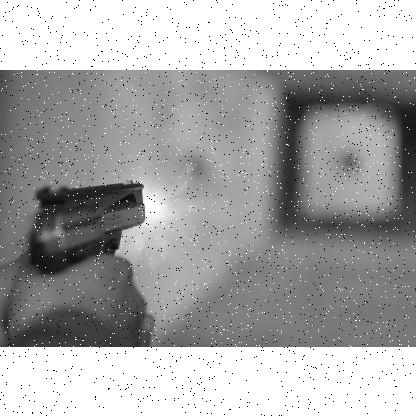gun: (27, 178, 144, 274)
